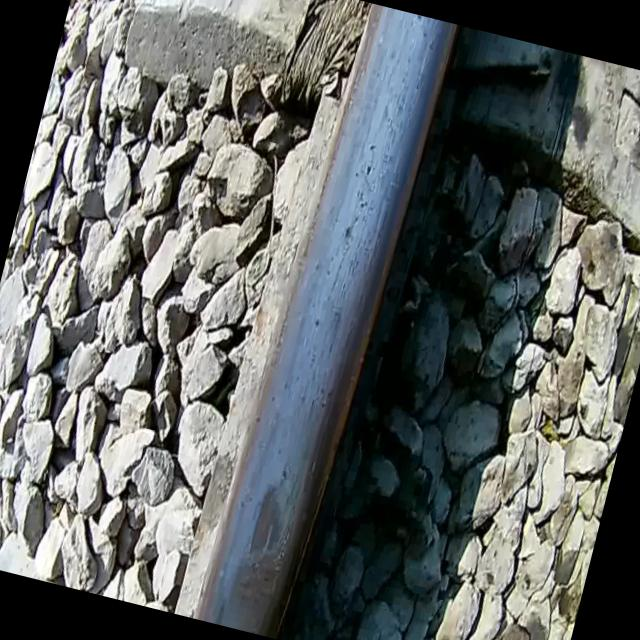Squats: (219, 536, 290, 634), (238, 471, 296, 567)
